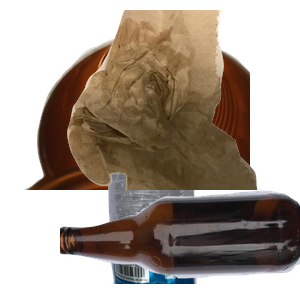glass: (60, 188, 300, 300)
metal: (21, 29, 261, 209)
plastic: (96, 120, 285, 300)
trash: (65, 10, 300, 190)
